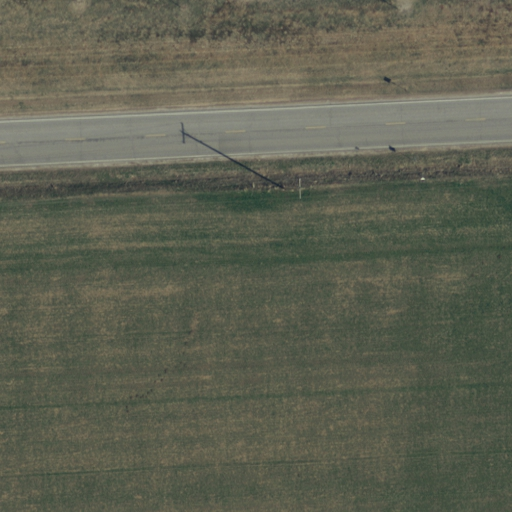DT: (269, 170, 307, 207)
